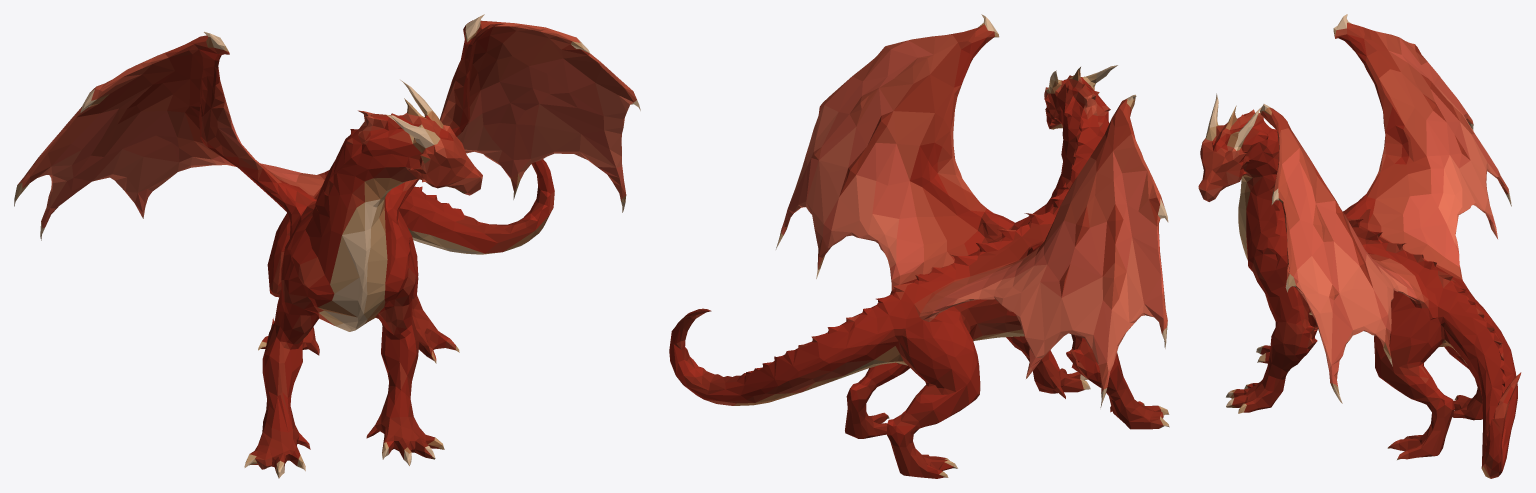
The model's file is a_dragon.glb.
3 renders of one model, left to right at view 1: azimuth 30°, elevation 25°; view 2: azimuth 150°, elevation 25°; view 3: azimuth 270°, elevation 25°, orthographic. The views are drawn at different scales.
Visible parts, largest first — view 1: low-poly-dragon; view 2: low-poly-dragon; view 3: low-poly-dragon.
Boxes of the visible parts, box(x1,y1,x2,y2) form: low-poly-dragon: box(14, 14, 640, 478); low-poly-dragon: box(669, 14, 1169, 478); low-poly-dragon: box(1198, 14, 1521, 478).
Size of the model in its own units: 5.05 by 3.62 by 3.17.
1 material, 1 textured.
